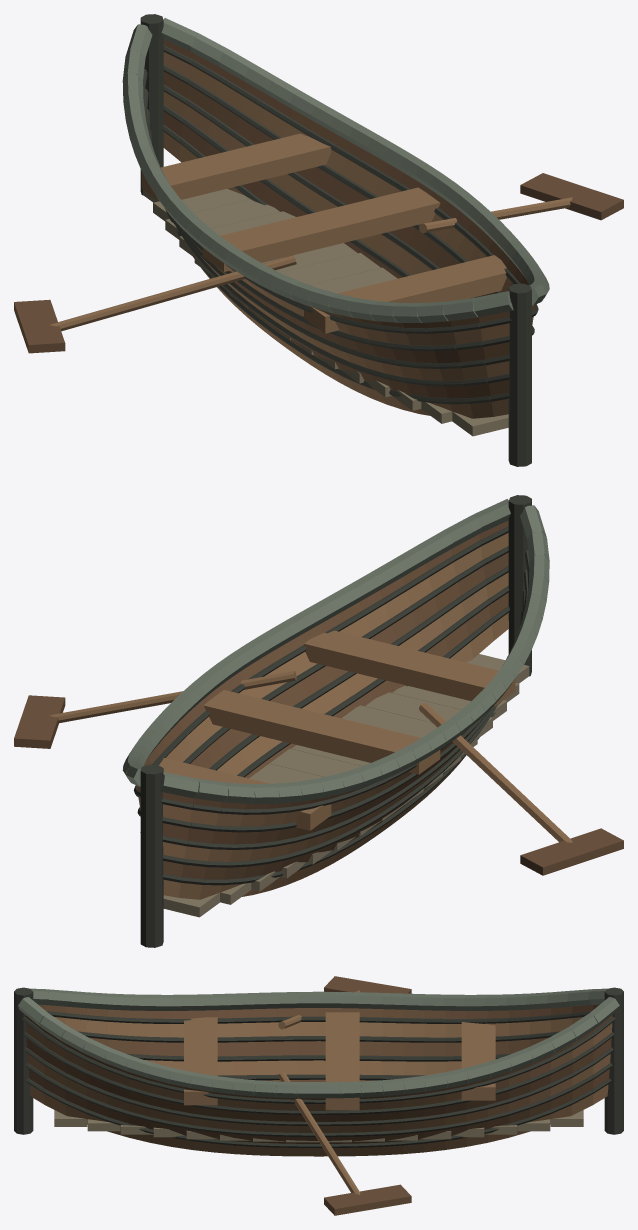
File: rowboat.glb
3 views of the same model, one above another, from view 1: azimuth 30°, elevation 25°; view 2: azimuth 150°, elevation 25°; view 3: azimuth 270°, elevation 25° (orthographic). The views are drawn at different scales.
Parts seen in each view (by area): view 1: Rowboat_cedar, Rowboat_dark, Rowboat_rim, Rowboat_wood, Rowboat_plank; view 2: Rowboat_cedar, Rowboat_dark, Rowboat_rim, Rowboat_wood, Rowboat_plank; view 3: Rowboat_cedar, Rowboat_dark, Rowboat_wood, Rowboat_rim, Rowboat_plank.
Boxes of the visible parts, left/top/right/bottom form: Rowboat_cedar: left=50, top=52, right=572, bottom=418; Rowboat_dark: left=140, top=14, right=538, bottom=466; Rowboat_rim: left=122, top=18, right=549, bottom=322; Rowboat_wood: left=14, top=39, right=623, bottom=398; Rowboat_plank: left=143, top=189, right=508, bottom=436; Rowboat_cedar: left=49, top=533, right=572, bottom=899; Rowboat_dark: left=134, top=495, right=531, bottom=947; Rowboat_rim: left=122, top=499, right=549, bottom=803; Rowboat_wood: left=14, top=520, right=623, bottom=879; Rowboat_plank: left=163, top=654, right=529, bottom=917; Rowboat_cedar: left=25, top=990, right=612, bottom=1194; Rowboat_dark: left=14, top=987, right=623, bottom=1147; Rowboat_wood: left=25, top=976, right=612, bottom=1215; Rowboat_rim: left=18, top=988, right=619, bottom=1098; Rowboat_plank: left=54, top=1082, right=583, bottom=1142.
Bounding box in the file's own units: 3.73 × 1.08 × 4.13.
